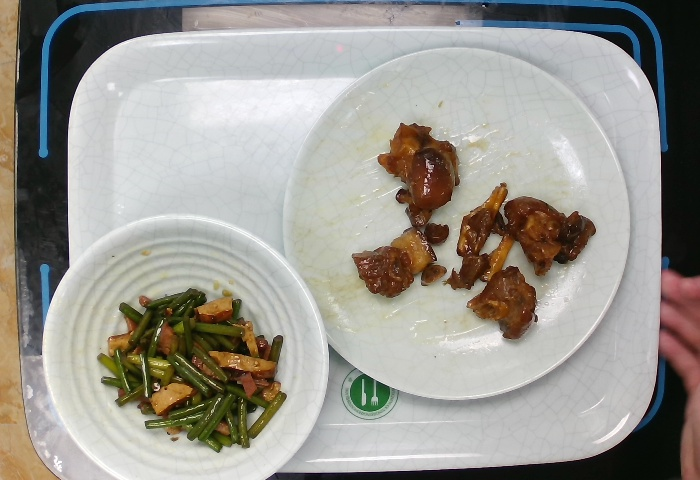JYsf-Da_Yuan_Pan: (274, 44, 632, 400)
JYsf-Xiao_Tang_Wan: (39, 211, 333, 480)
